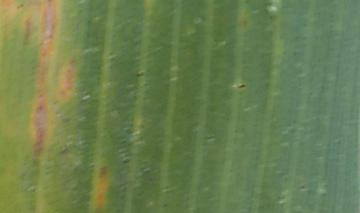tarspot: (236, 82, 247, 90), (135, 70, 144, 77), (15, 3, 25, 9)
